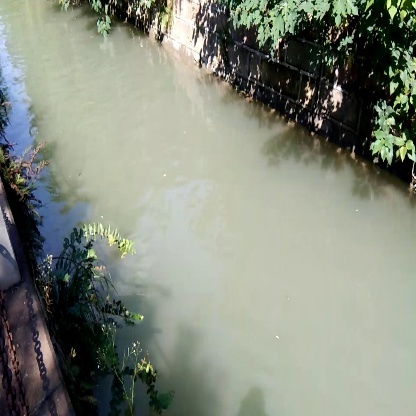grass: (56, 220, 136, 288)
